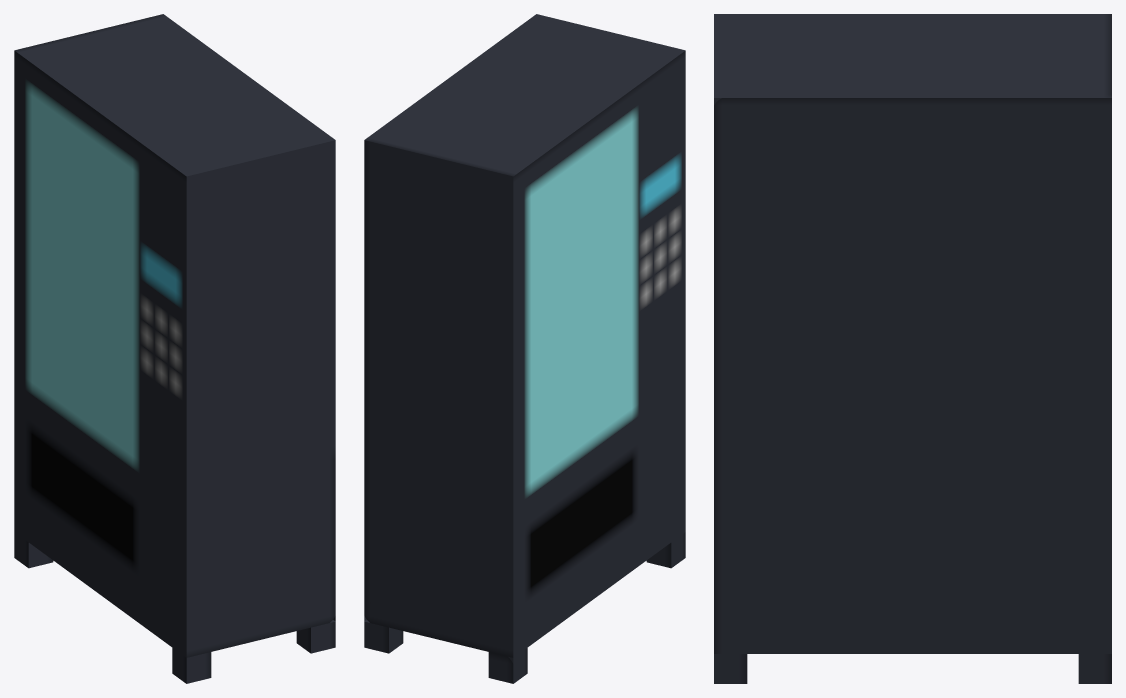
The model's file is vending machine.obj.
3 renders of one model, left to right at view 1: azimuth 30°, elevation 25°; view 2: azimuth 150°, elevation 25°; view 3: azimuth 270°, elevation 25°, orthographic. The views are drawn at different scales.
Visible parts, largest first — view 1: cube; view 2: cube; view 3: cube.
Boxes of the visible parts, bbox=[...] form: cube: bbox=[14, 14, 335, 683]; cube: bbox=[364, 14, 685, 683]; cube: bbox=[714, 14, 1111, 683].
Bounding box in the file's own units: 0.75 × 2.44 × 1.5.
